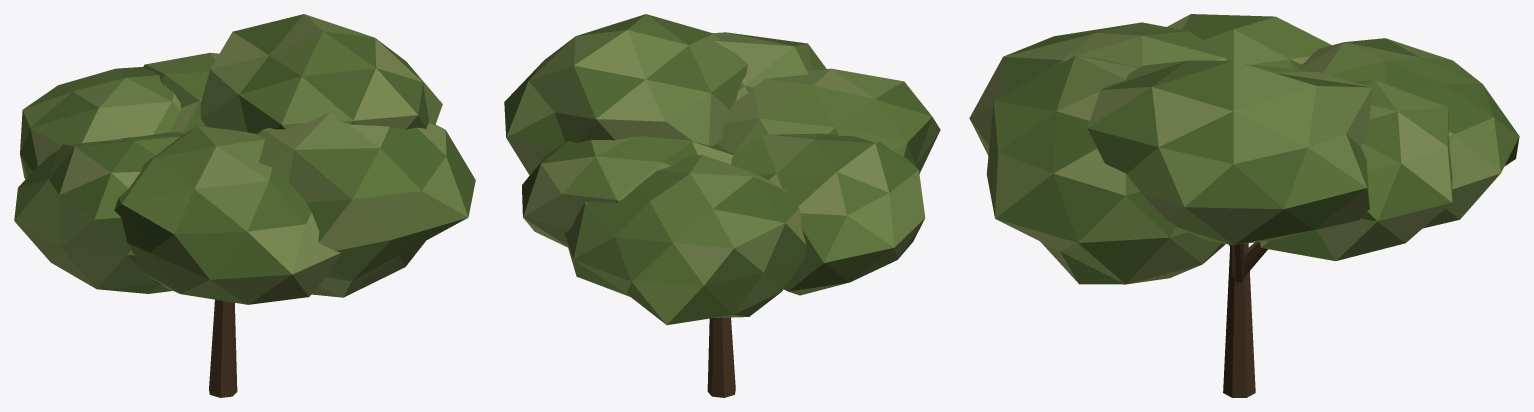
Rendered from Tree03.obj.
3 views of the same model, side by side, from view 1: azimuth 30°, elevation 25°; view 2: azimuth 150°, elevation 25°; view 3: azimuth 270°, elevation 25° (orthographic). The views are drawn at different scales.
Parts seen in each view (by area): view 1: Crown.002, Trunk.002; view 2: Crown.002, Trunk.002; view 3: Crown.002, Trunk.002.
Boxes of the visible parts, bbox=[...] form: Crown.002: bbox=[14, 14, 475, 304]; Trunk.002: bbox=[209, 299, 237, 397]; Crown.002: bbox=[504, 14, 940, 325]; Trunk.002: bbox=[707, 317, 735, 397]; Crown.002: bbox=[969, 14, 1519, 284]; Trunk.002: bbox=[1223, 242, 1267, 397].
Size of the model in its own units: 7.04 by 5.84 by 7.56.
